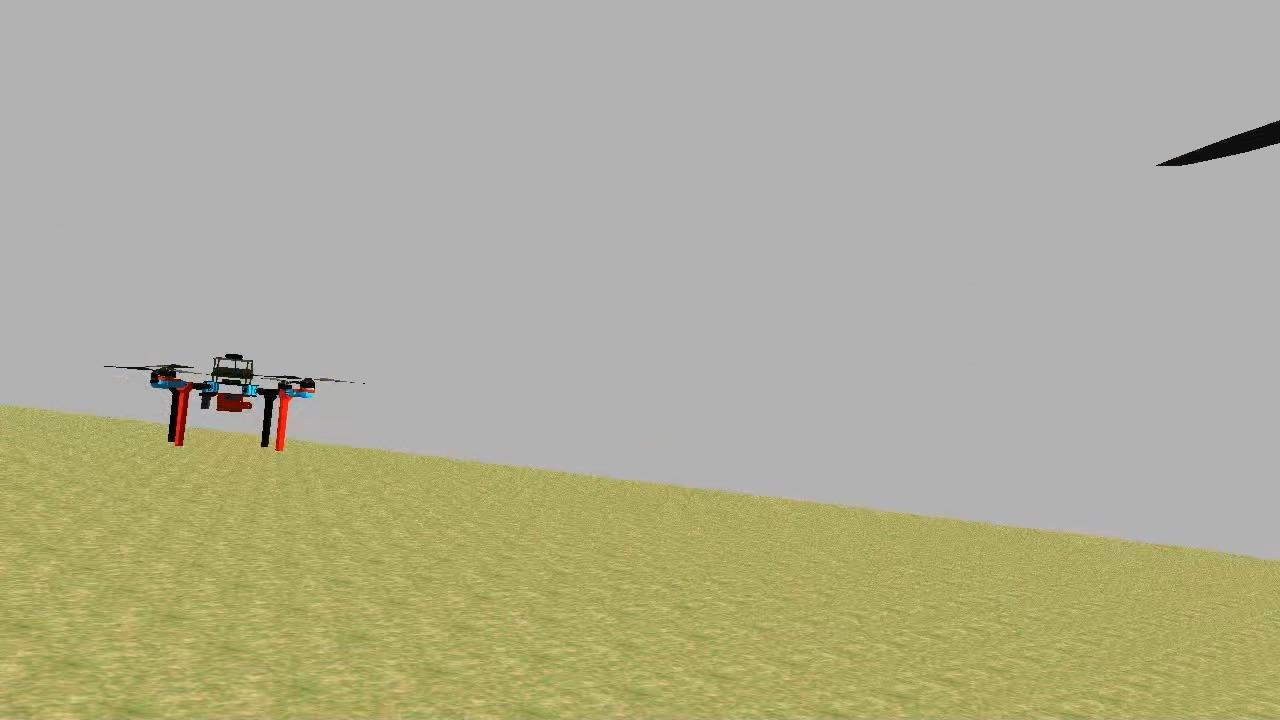UAV: (142, 350, 320, 458)
